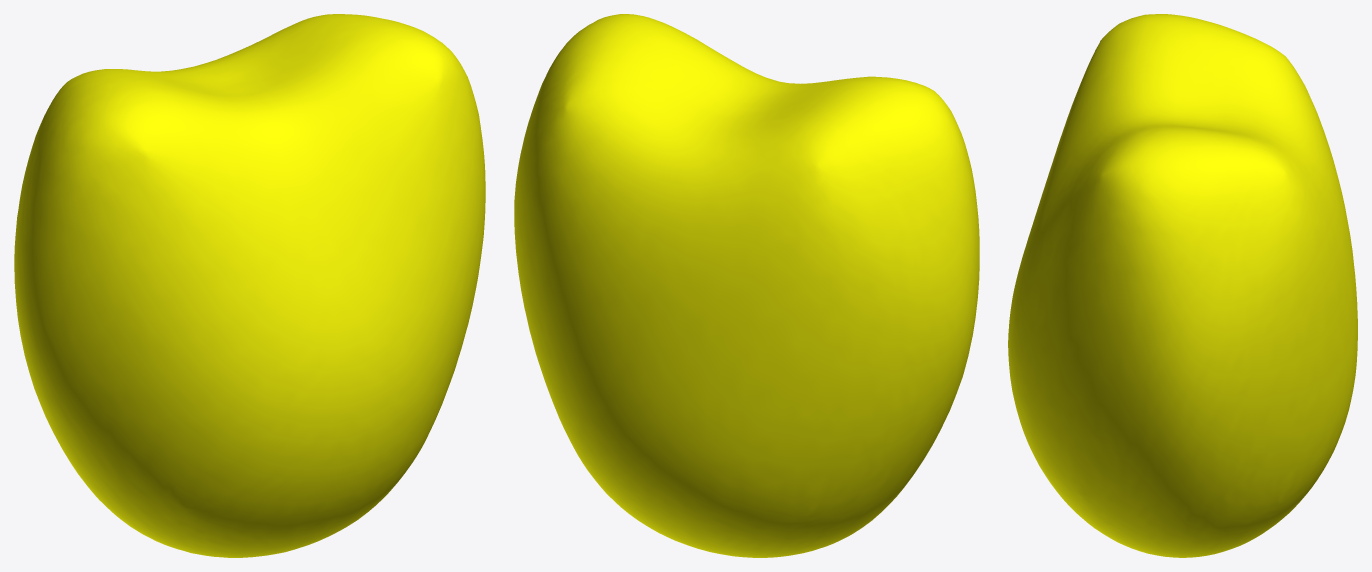
The model's file is plant-c.glb.
3 views of the same model, side by side, from view 1: azimuth 30°, elevation 25°; view 2: azimuth 150°, elevation 25°; view 3: azimuth 270°, elevation 25° (orthographic). The views are drawn at different scales.
Visible parts, largest first — view 1: PlantCMorphFixUV.001; view 2: PlantCMorphFixUV.001; view 3: PlantCMorphFixUV.001.
Boxes of the visible parts, left/top/right/bottom form: PlantCMorphFixUV.001: left=14, top=14, right=485, bottom=557; PlantCMorphFixUV.001: left=514, top=14, right=979, bottom=557; PlantCMorphFixUV.001: left=1008, top=14, right=1357, bottom=557.
Bounding box in the file's own units: 0.9167 × 0.9614 × 0.6664.
1 material, 1 textured.
